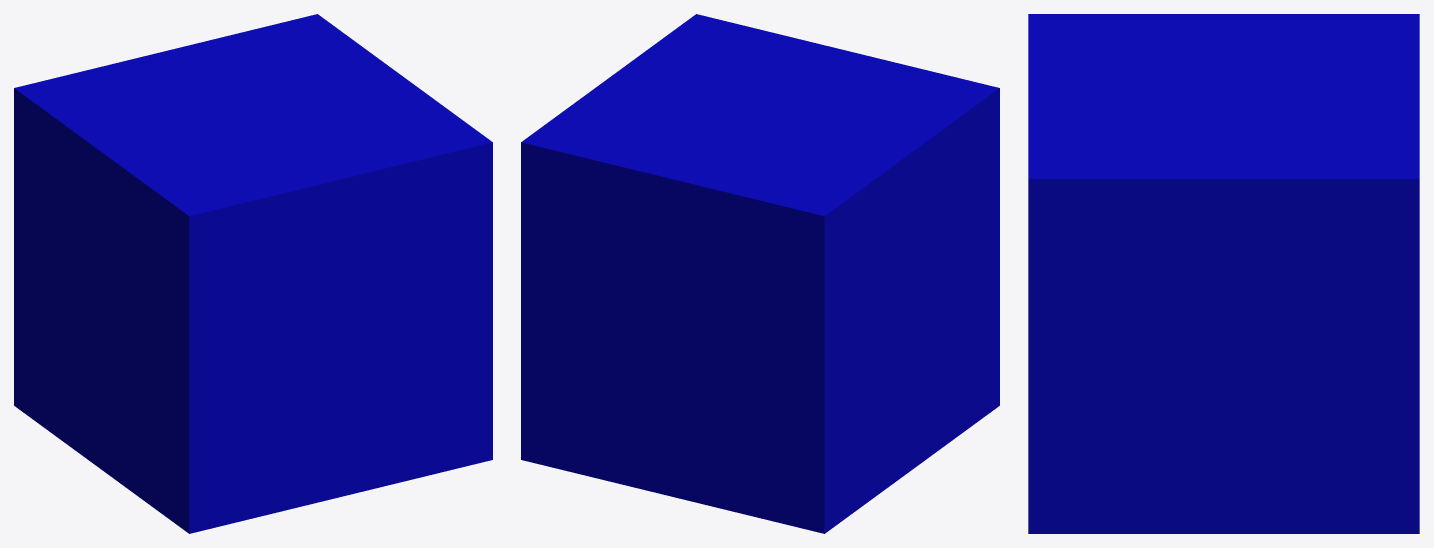
The model's file is question.fbx.
3 renders of one model, left to right at view 1: azimuth 30°, elevation 25°; view 2: azimuth 150°, elevation 25°; view 3: azimuth 270°, elevation 25°, orthographic. The views are drawn at different scales.
Parts seen in each view (by area): view 1: question; view 2: question; view 3: question.
Boxes of the visible parts, box(x1,y1,x2,y2) form: question: box(14, 14, 492, 533); question: box(521, 14, 999, 533); question: box(1028, 14, 1419, 533).
Size of the model in its own units: 2.91 by 2.91 by 2.91.
